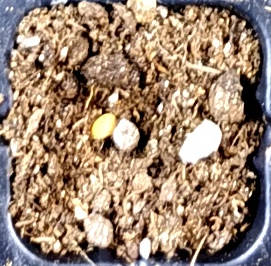chilli seed: (91, 113, 115, 139)
